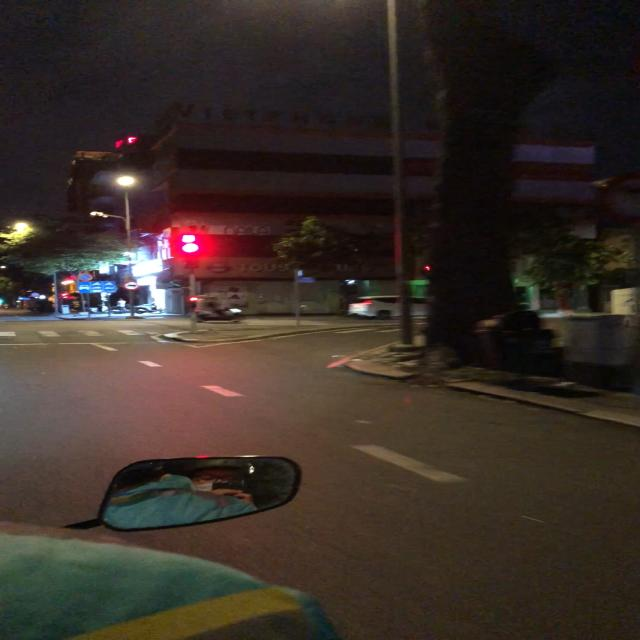Bien bao cam do xe: (76, 272, 95, 282)
Bien bao cam xe so-mi ro-mooc: (120, 280, 142, 292)
